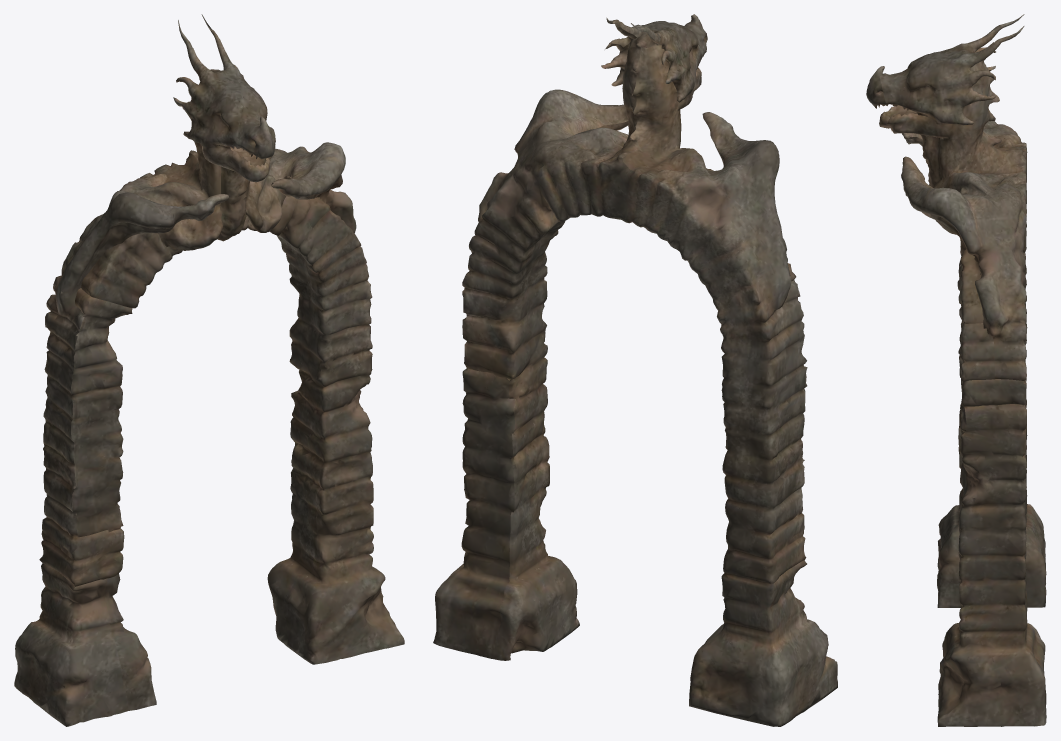
Rendered from prop-dragon-door.glb.
3 renders of one model, left to right at view 1: azimuth 30°, elevation 25°; view 2: azimuth 150°, elevation 25°; view 3: azimuth 270°, elevation 25°, orthographic. The views are drawn at different scales.
Visible parts, largest first — view 1: portal_textured; view 2: portal_textured; view 3: portal_textured.
Part boxes in pixels (left/top/right/bottom): portal_textured: left=14, top=14, right=404, bottom=726; portal_textured: left=433, top=14, right=837, bottom=726; portal_textured: left=866, top=14, right=1046, bottom=726.
Bounding box in the file's own units: 3.58 × 6.43 × 1.68.
1 material, 1 textured.
